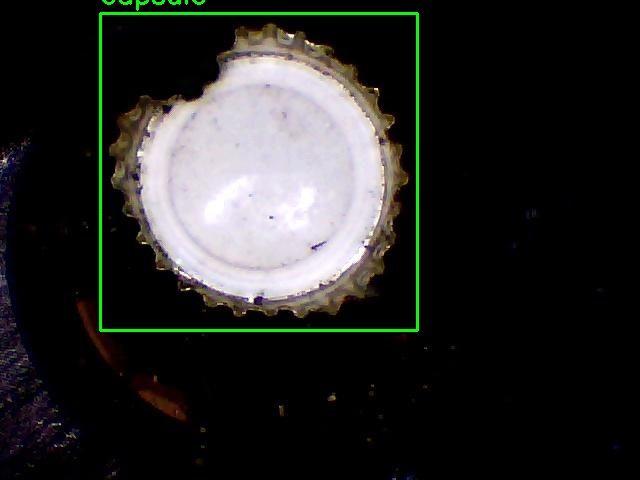capsule: (100, 13, 417, 330)
